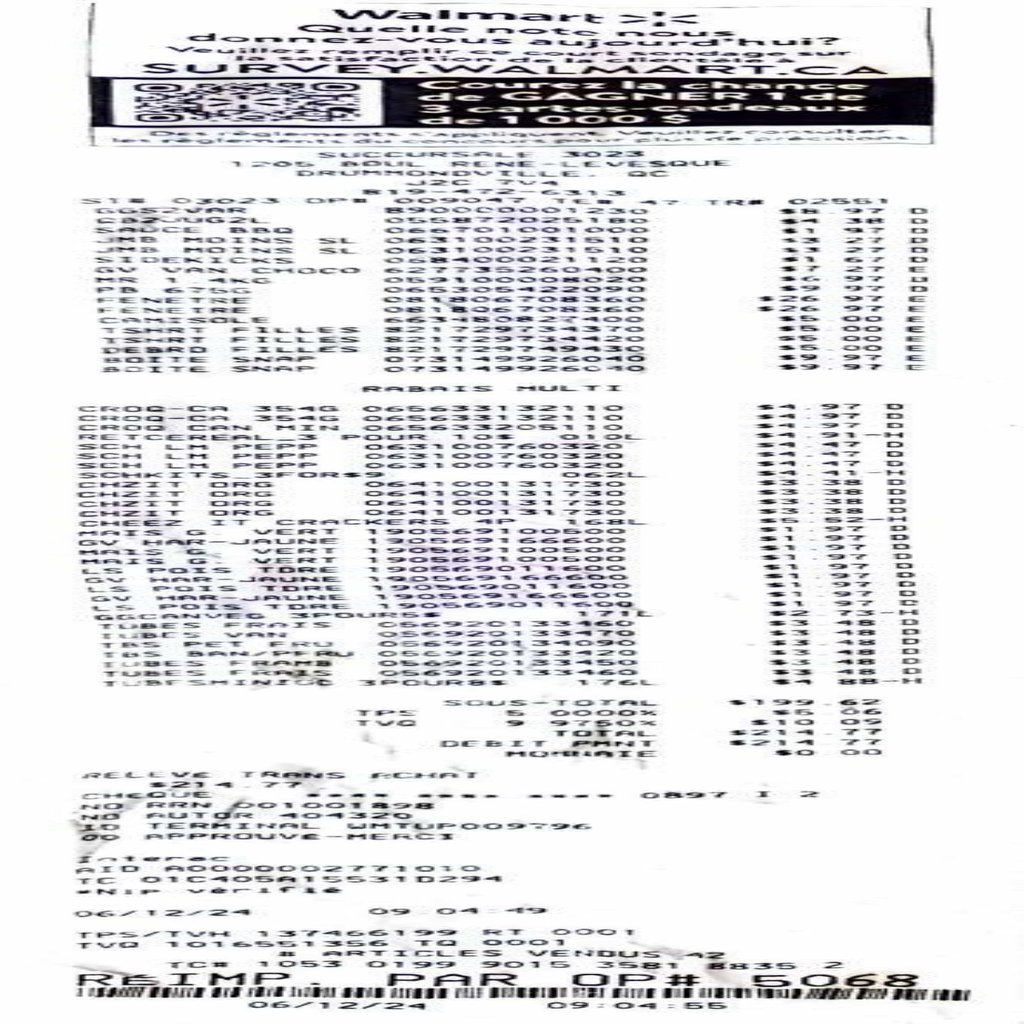recipt: (4, 4, 1020, 1018)
